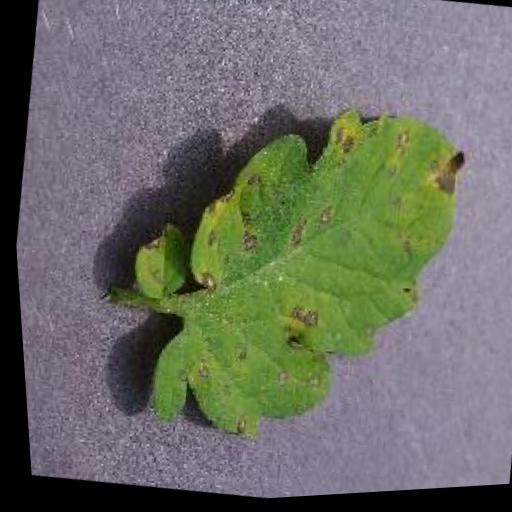Septoria: (89, 74, 484, 480)
